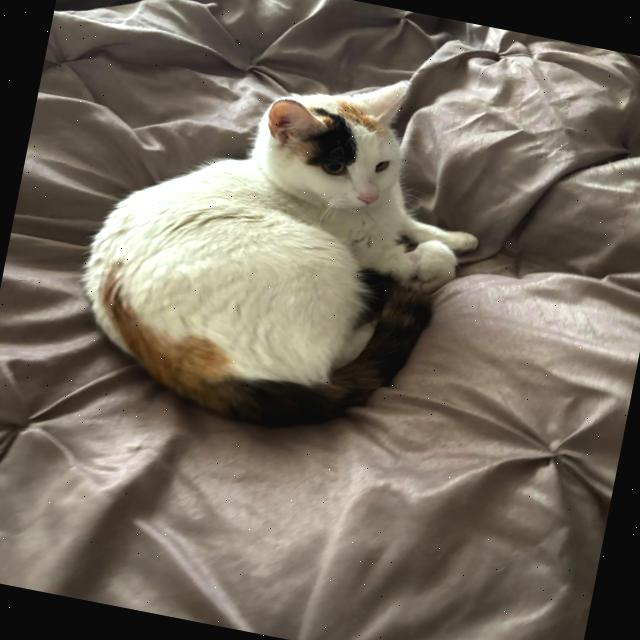calico_cat: (230, 48, 436, 238)
